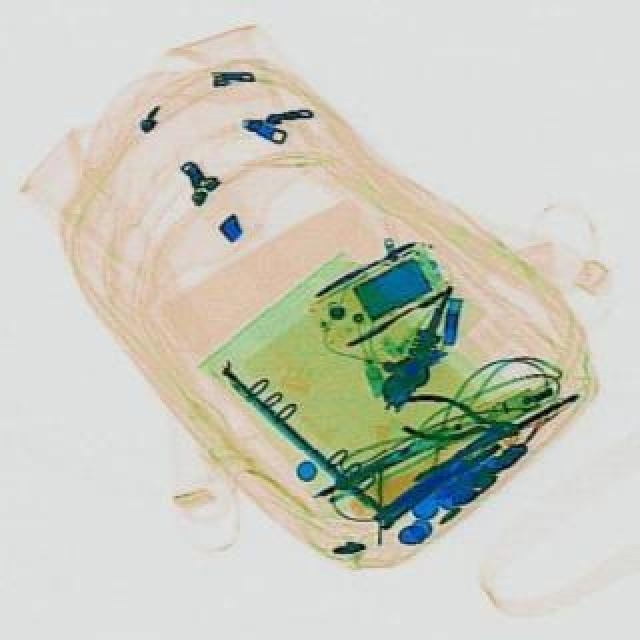wrench: (392, 392, 520, 456)
